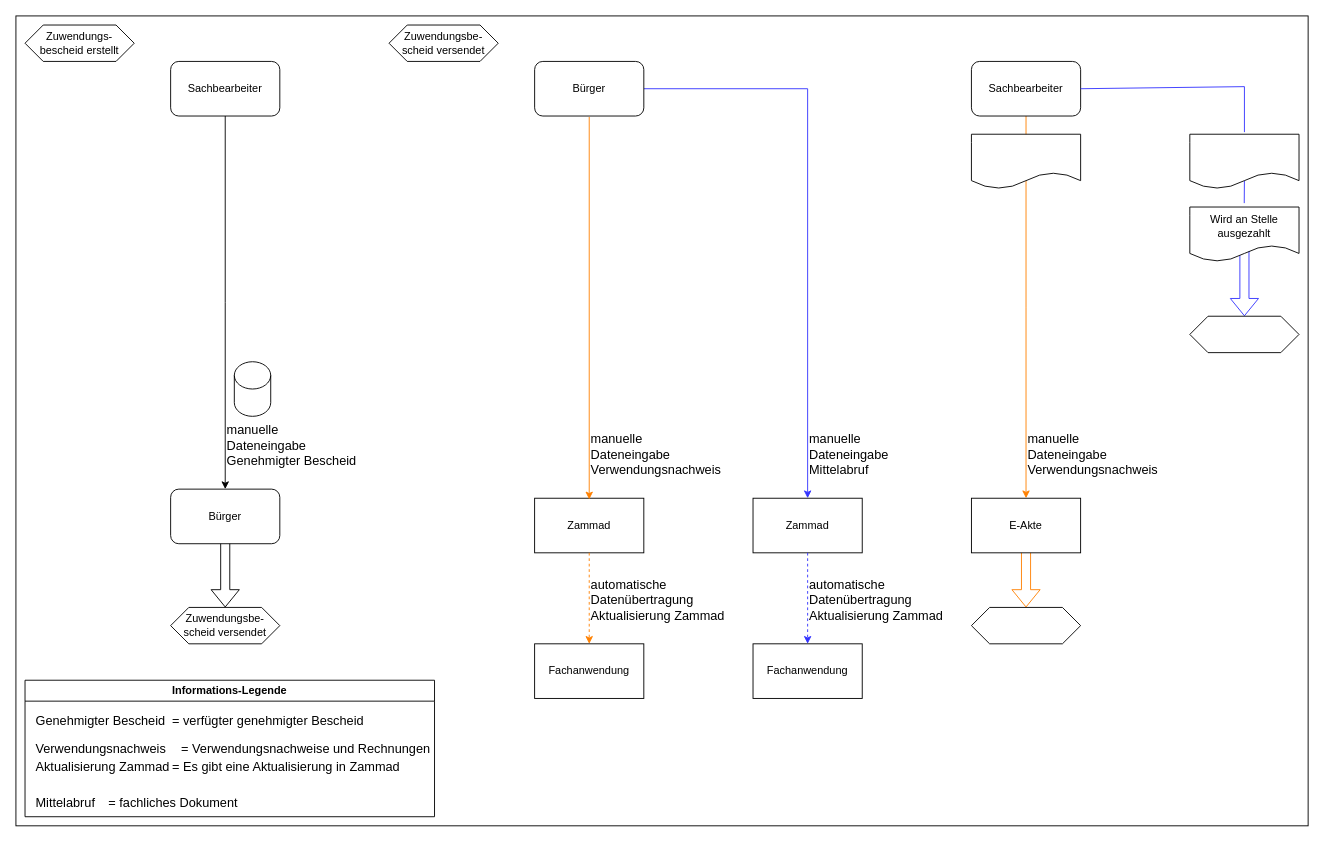
Some shapes in this 1324 by 842 pixel diagram are drawn without their labels. Here are the shapes that lost their labels. From the top down, the centre of each, then its label:
At point 1026,161: "Verwendungs- nachweise prüfen".
At point 1244,161: "Mittelabruf geprüft".
At point 1244,334: "An Antragsteller ausgezahlt".
At point 252,388: "Post".
At point 1026,625: "Verwendungs- nachweise geprüft".
